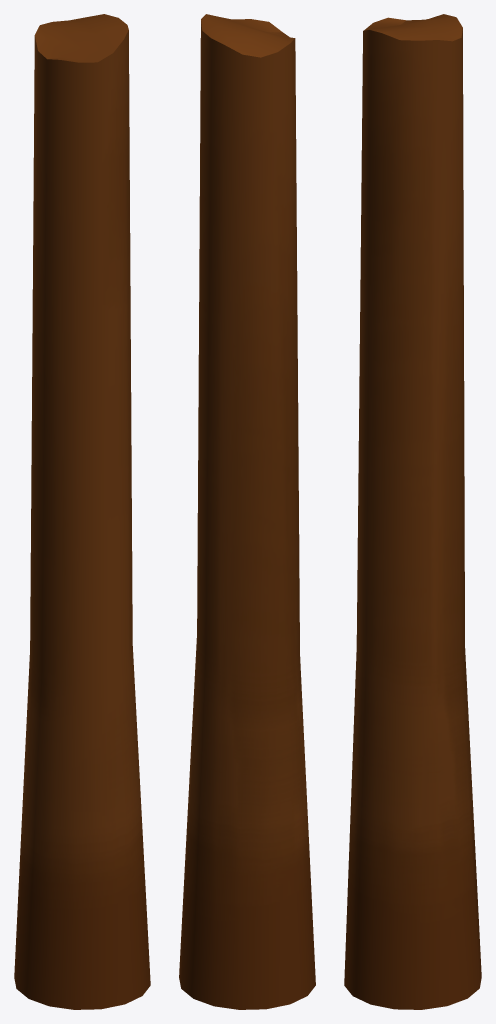
File: woodpole3.fbx
The picture shows the model from 3 angles, left to right: view 1: azimuth 30°, elevation 25°; view 2: azimuth 210°, elevation 25°; view 3: azimuth 270°, elevation 25°; orthographic projection.
Parts seen in each view (by area): view 1: Dock.009; view 2: Dock.009; view 3: Dock.009.
Part boxes in pixels (<box>): Dock.009: <box>14,14,150,1009</box>; Dock.009: <box>179,14,315,1009</box>; Dock.009: <box>344,14,481,1009</box>.
Size of the model in its own units: 62.03 by 487 by 62.95.
